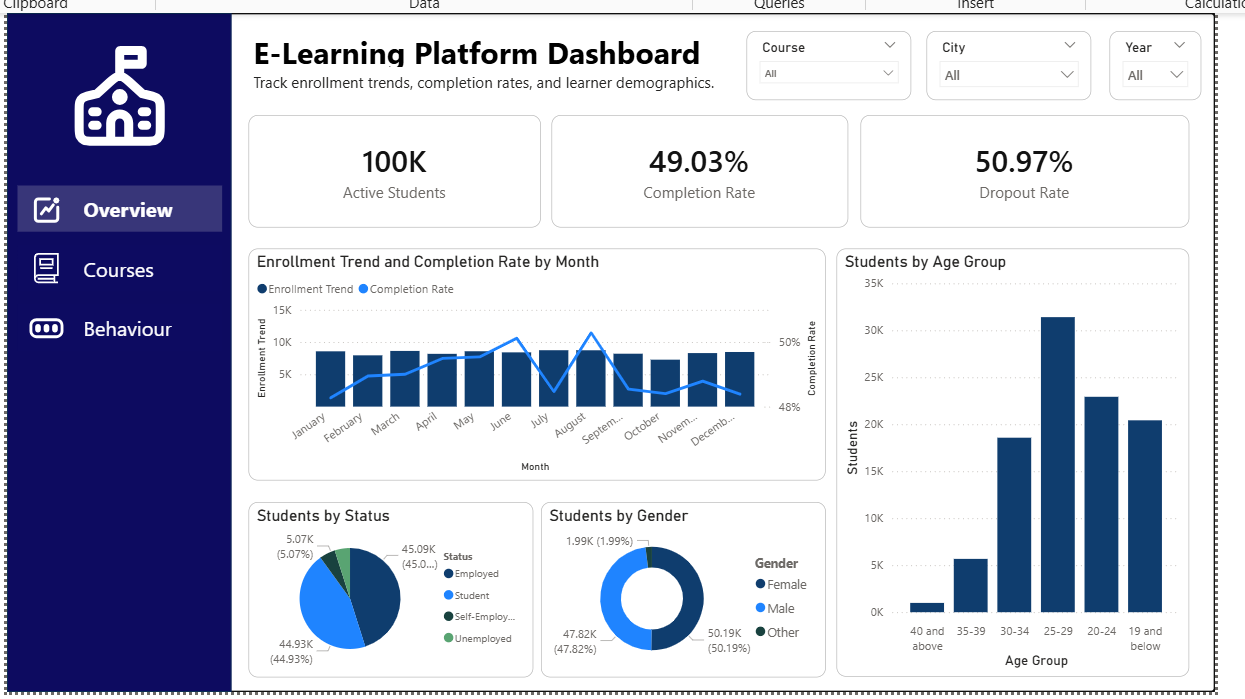

Layout of this report page (visuals, bound fields, positions):
{"tool":"powerbi","page":{"name":"Overview","canvas":[1280,720],"ordinal":0},"visuals":[{"type":"shape","box":[0,0,238.1,720],"z":0},{"type":"pageNavigator","box":[11.3,183.3,217.3,175.7],"z":1000},{"type":"image","box":[18.9,189,47.2,37.8],"z":2000},{"type":"image","box":[37.5,30,162.5,115],"z":3000},{"type":"image","box":[18.9,255.1,45.4,32.1],"z":4000},{"type":"image","box":[24,315,36,38],"z":5000},{"type":"textbox","box":[256,14,534,56],"z":6000},{"type":"textbox","box":[255.7,57.1,511.4,40],"z":7000},{"type":"slicer","fields":{"Values":["city_dim.City"]},"box":[975,19.1,175,73.2],"z":8000},{"type":"slicer","fields":{"Values":["courses_dim.Course_Name"]},"box":[784.2,19.1,175,73.2],"z":9000},{"type":"cardVisual","fields":{"Data":["fact_tbl.Active Students"]},"box":[256.1,108.2,310.2,119.3],"z":13000},{"type":"cardVisual","fields":{"Data":["fact_tbl.Dropout Rate"]},"box":[905.1,108.2,348.3,119.3],"z":14000},{"type":"cardVisual","fields":{"Data":["fact_tbl.Completion Rate"]},"box":[577.4,108.2,314.9,119.3],"z":15000},{"type":"lineStackedColumnComboChart","fields":{"Category":["student_dim.Enrollment_Date.Variation.Date Hierarchy.Month"],"Y":["CountNonNull(student_dim.Student_ID)"],"Y2":["fact_tbl.Completion Rate"]},"box":[256,250,612,246],"z":16000},{"type":"columnChart","fields":{"Category":["student_dim.Age Group"],"Y":["CountNonNull(student_dim.Student_ID)"]},"box":[880,250,374,454],"z":17000},{"type":"pieChart","fields":{"Y":["CountNonNull(fact_tbl.Student_ID)"],"Category":["student_dim.Employment_Status"]},"box":[256,518,302,186],"z":18000},{"type":"donutChart","fields":{"Category":["student_dim.Gender"],"Y":["CountNonNull(student_dim.Student_ID)"]},"box":[566,518,302,186],"z":19000},{"type":"slicer","fields":{"Values":["student_dim.Enrollment_Date.Variation.Date Hierarchy.Year"]},"box":[1169.1,19.1,97,73.2],"z":20000}]}

Visuals, with their boxes on the page's 1280x720 design canvas (x1, y1, x2, y2). These are canvas units, not pixel positions in the 1245x699 screenshot, which may show the page scaled, cropped or inside an application window:
shape: {"x1": 0, "y1": 0, "x2": 238, "y2": 720}
pageNavigator: {"x1": 11, "y1": 183, "x2": 229, "y2": 359}
image: {"x1": 19, "y1": 189, "x2": 66, "y2": 227}
image: {"x1": 38, "y1": 30, "x2": 200, "y2": 145}
image: {"x1": 19, "y1": 255, "x2": 64, "y2": 287}
image: {"x1": 24, "y1": 315, "x2": 60, "y2": 353}
textbox: {"x1": 256, "y1": 14, "x2": 790, "y2": 70}
textbox: {"x1": 256, "y1": 57, "x2": 767, "y2": 97}
slicer - city_dim.City: {"x1": 975, "y1": 19, "x2": 1150, "y2": 92}
slicer - courses_dim.Course_Name: {"x1": 784, "y1": 19, "x2": 959, "y2": 92}
cardVisual - fact_tbl.Active Students: {"x1": 256, "y1": 108, "x2": 566, "y2": 228}
cardVisual - fact_tbl.Dropout Rate: {"x1": 905, "y1": 108, "x2": 1253, "y2": 228}
cardVisual - fact_tbl.Completion Rate: {"x1": 577, "y1": 108, "x2": 892, "y2": 228}
lineStackedColumnComboChart - student_dim.Enrollment_Date.Variation.Date Hierarchy.Month x CountNonNull(student_dim.Student_ID): {"x1": 256, "y1": 250, "x2": 868, "y2": 496}
columnChart - student_dim.Age Group x CountNonNull(student_dim.Student_ID): {"x1": 880, "y1": 250, "x2": 1254, "y2": 704}
pieChart - CountNonNull(fact_tbl.Student_ID) x student_dim.Employment_Status: {"x1": 256, "y1": 518, "x2": 558, "y2": 704}
donutChart - student_dim.Gender x CountNonNull(student_dim.Student_ID): {"x1": 566, "y1": 518, "x2": 868, "y2": 704}
slicer - student_dim.Enrollment_Date.Variation.Date Hierarchy.Year: {"x1": 1169, "y1": 19, "x2": 1266, "y2": 92}
